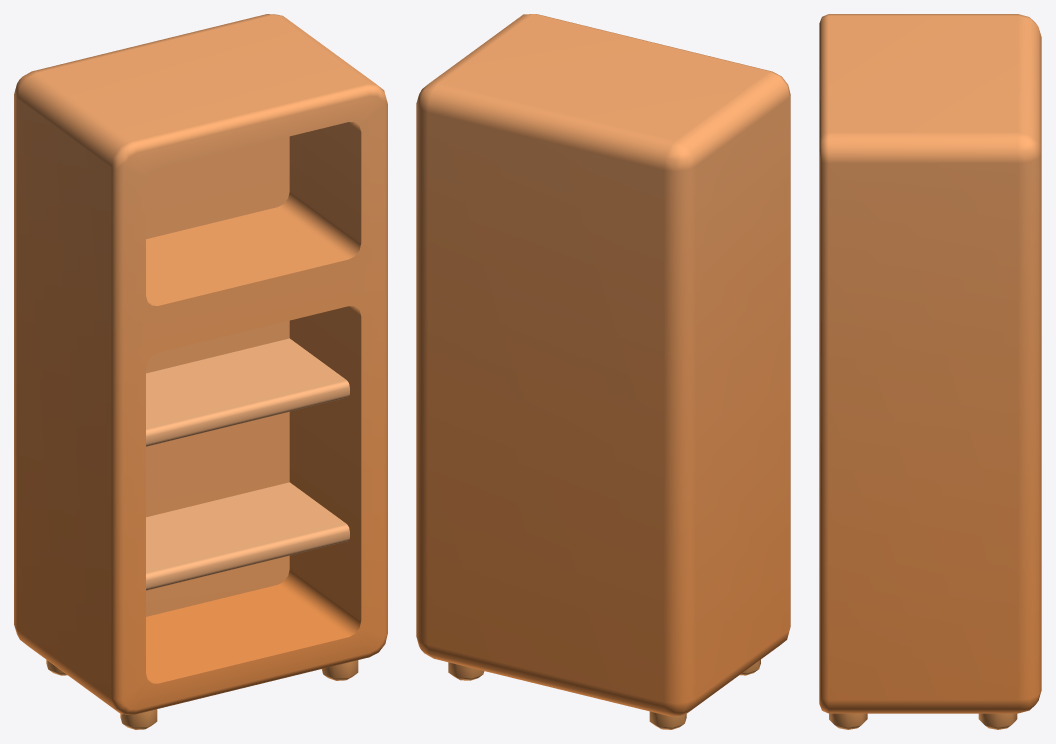
Rendered from Fridge_001.fbx.
3 views of the same model, side by side, from view 1: azimuth 30°, elevation 25°; view 2: azimuth 150°, elevation 25°; view 3: azimuth 270°, elevation 25° (orthographic).
Visible parts, largest first — view 1: Fridge_001; view 2: Fridge_001; view 3: Fridge_001.
Part boxes in pixels (x1=…): Fridge_001: x1=14, y1=14, x2=387, y2=729; Fridge_001: x1=416, y1=14, x2=790, y2=729; Fridge_001: x1=819, y1=14, x2=1041, y2=729.
Size of the model in its own units: 68 by 47 by 140.
